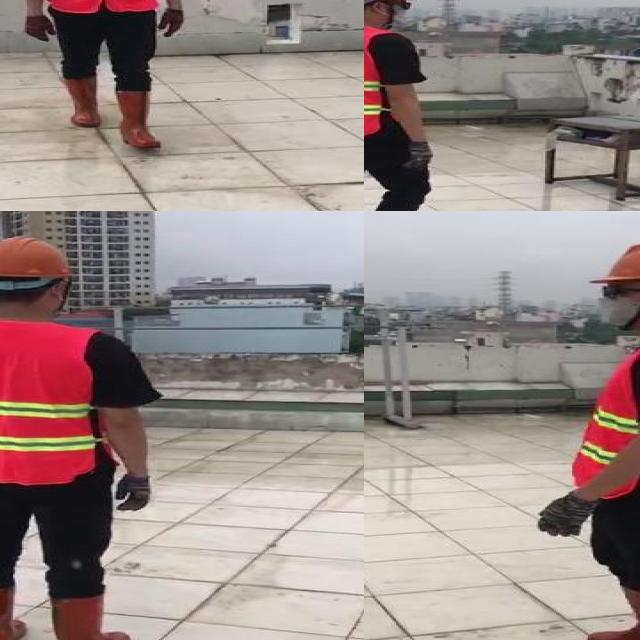boots: (47, 594, 134, 640), (581, 583, 640, 640), (116, 89, 162, 150), (62, 75, 101, 126), (0, 583, 29, 640)
face_mask: (590, 275, 640, 328)
glasses: (595, 280, 640, 302)
hand_glove: (536, 495, 594, 537), (112, 473, 160, 510), (403, 139, 433, 170), (24, 15, 56, 43), (159, 9, 187, 39)
head_helmet: (0, 233, 76, 283), (598, 239, 640, 292)
person: (0, 231, 163, 640), (523, 232, 640, 640), (23, 0, 192, 150), (364, 0, 451, 211)
vest: (0, 321, 114, 482), (568, 332, 640, 501), (364, 25, 392, 137)
